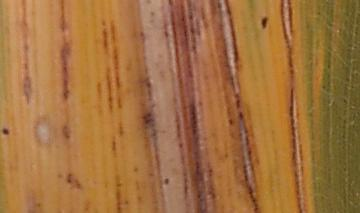tarspot: (260, 15, 270, 32), (140, 112, 154, 124), (1, 126, 11, 139), (163, 176, 170, 187)
